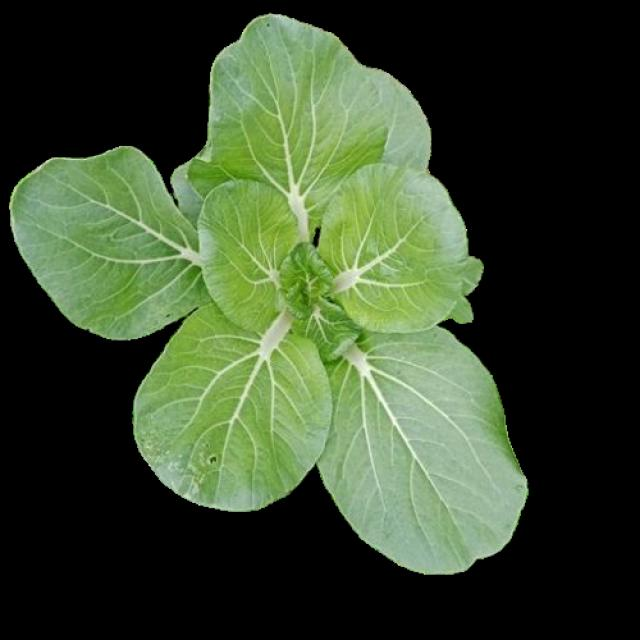mature: (10, 12, 528, 572)
unhealthy: (132, 307, 334, 511)
